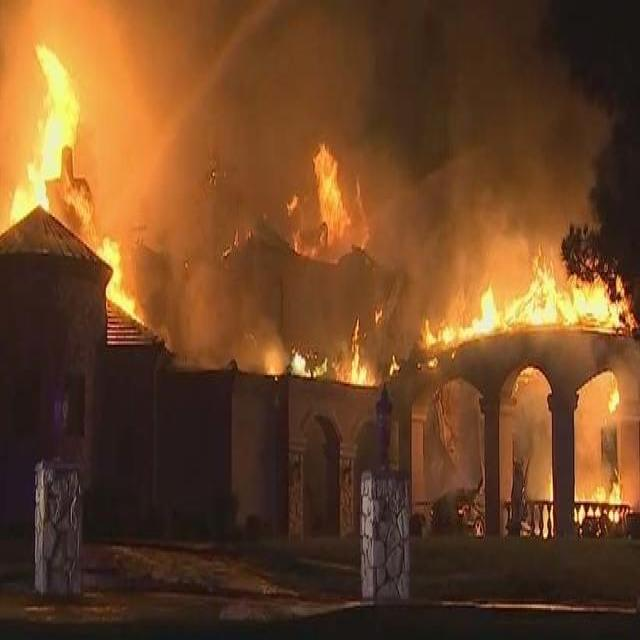fire: (437, 260, 637, 354), (4, 37, 80, 233), (298, 98, 360, 270), (262, 324, 381, 398), (86, 231, 152, 343), (576, 469, 621, 508), (603, 377, 623, 421)
smoke: (360, 0, 589, 258), (80, 0, 290, 231), (153, 236, 260, 398)
